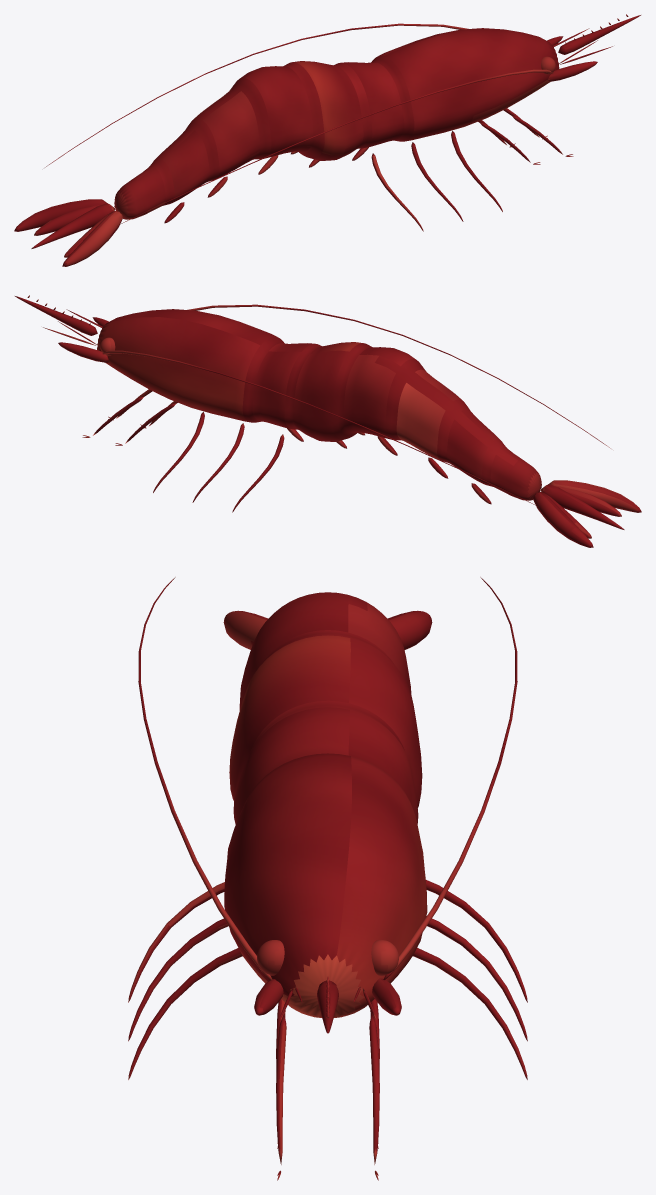
The picture shows the model from 3 angles, top to bottom: view 1: azimuth 30°, elevation 25°; view 2: azimuth 150°, elevation 25°; view 3: azimuth 270°, elevation 25°; orthographic projection. The views are drawn at different scales.
Parts seen in each view (by area): view 1: Neocaridina_davidi; view 2: Neocaridina_davidi; view 3: Neocaridina_davidi.
Boxes of the visible parts, left/top/right/bottom form: Neocaridina_davidi: left=14, top=14, right=640, bottom=266; Neocaridina_davidi: left=15, top=295, right=641, bottom=547; Neocaridina_davidi: left=128, top=577, right=527, bottom=1180.
Bounding box in the file's own units: 0.8464 × 0.1997 × 0.2394.
Materials: 1 (1 with a texture image).
